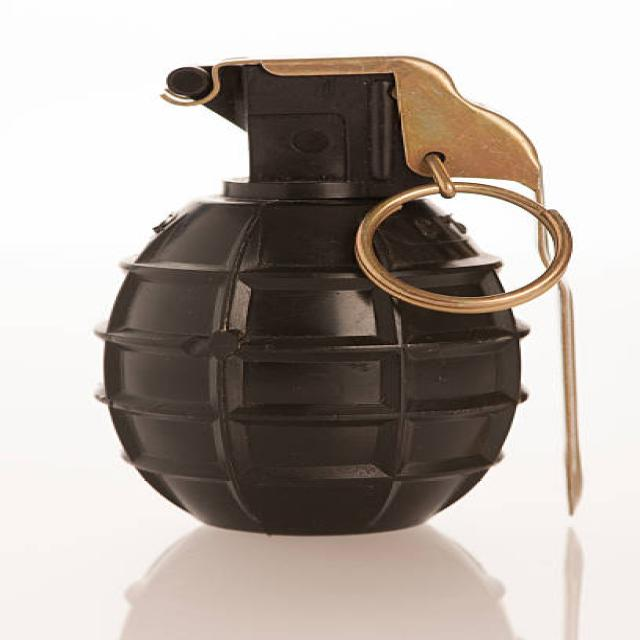grenade: (82, 42, 603, 538)
